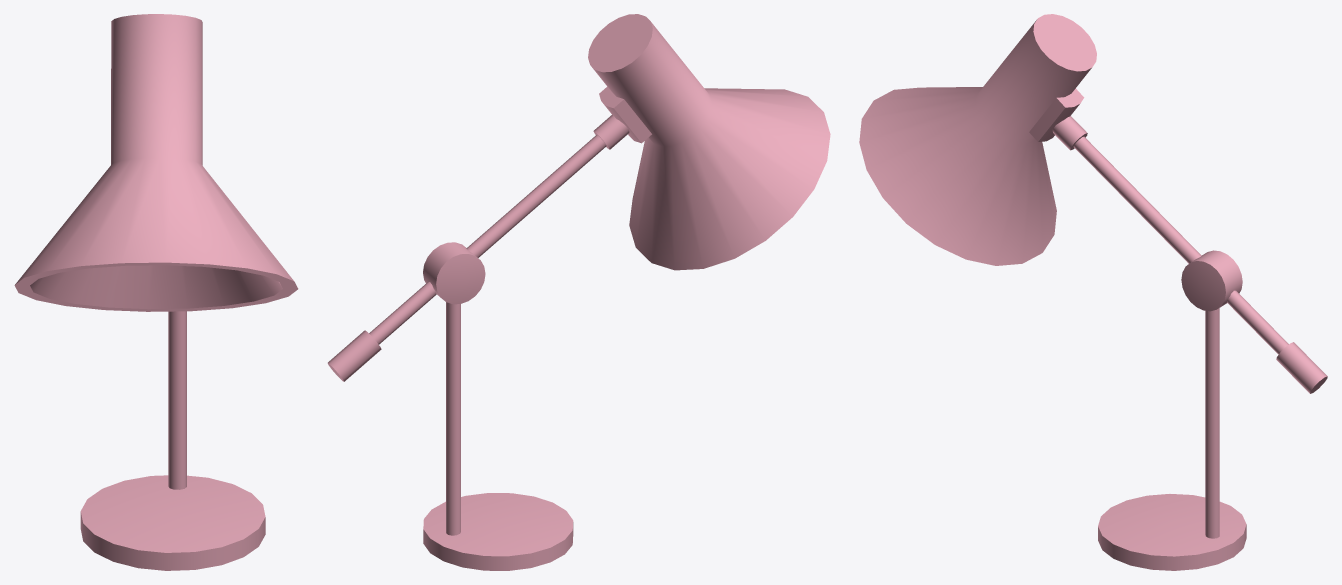
Rendered from DeskLamp.fbx.
3 views of the same model, side by side, from view 1: azimuth 30°, elevation 25°; view 2: azimuth 150°, elevation 25°; view 3: azimuth 270°, elevation 25° (orthographic). The views are drawn at different scales.
Visible parts, largest first — view 1: DeskLamp; view 2: DeskLamp; view 3: DeskLamp.
Part boxes in pixels (bbox=[...]): DeskLamp: bbox=[14, 14, 298, 570]; DeskLamp: bbox=[327, 14, 830, 570]; DeskLamp: bbox=[859, 14, 1327, 570].
Size of the model in its own units: 55.74 by 82.88 by 72.76.
